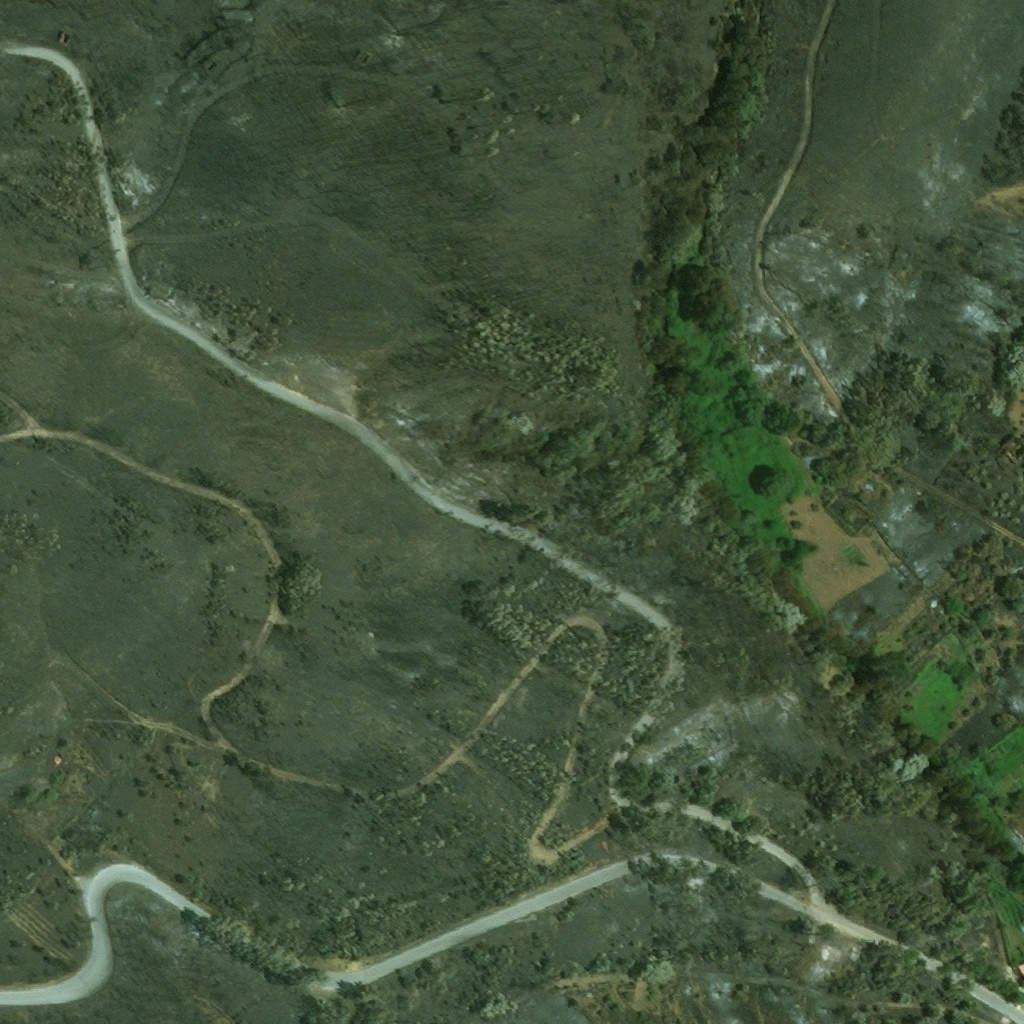3 destroyed: (609, 789, 630, 810), (56, 29, 73, 46), (286, 1003, 300, 1018)
